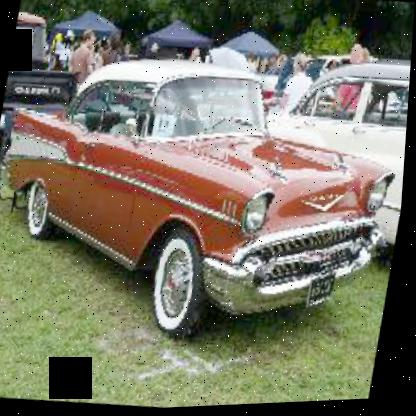not_emergency: (0, 30, 413, 375)
